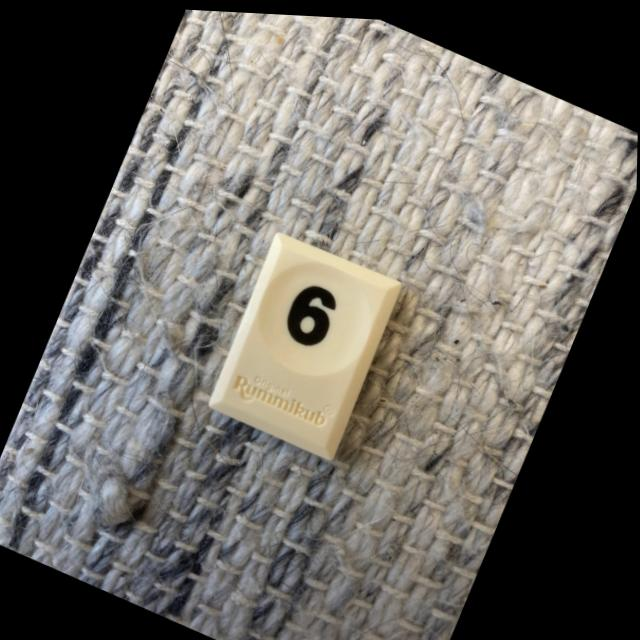black_6: (210, 230, 402, 456)
